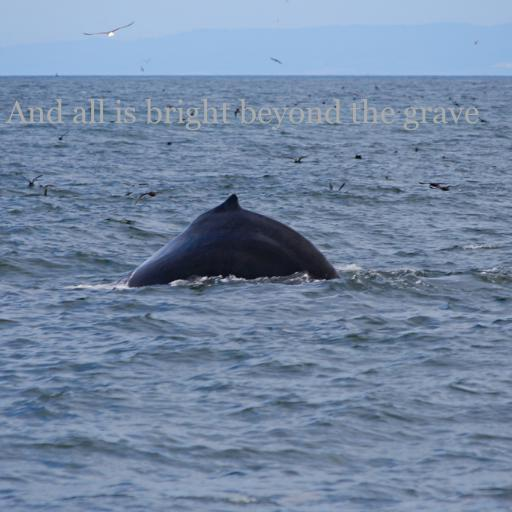Georgia: (5, 98, 479, 131)
